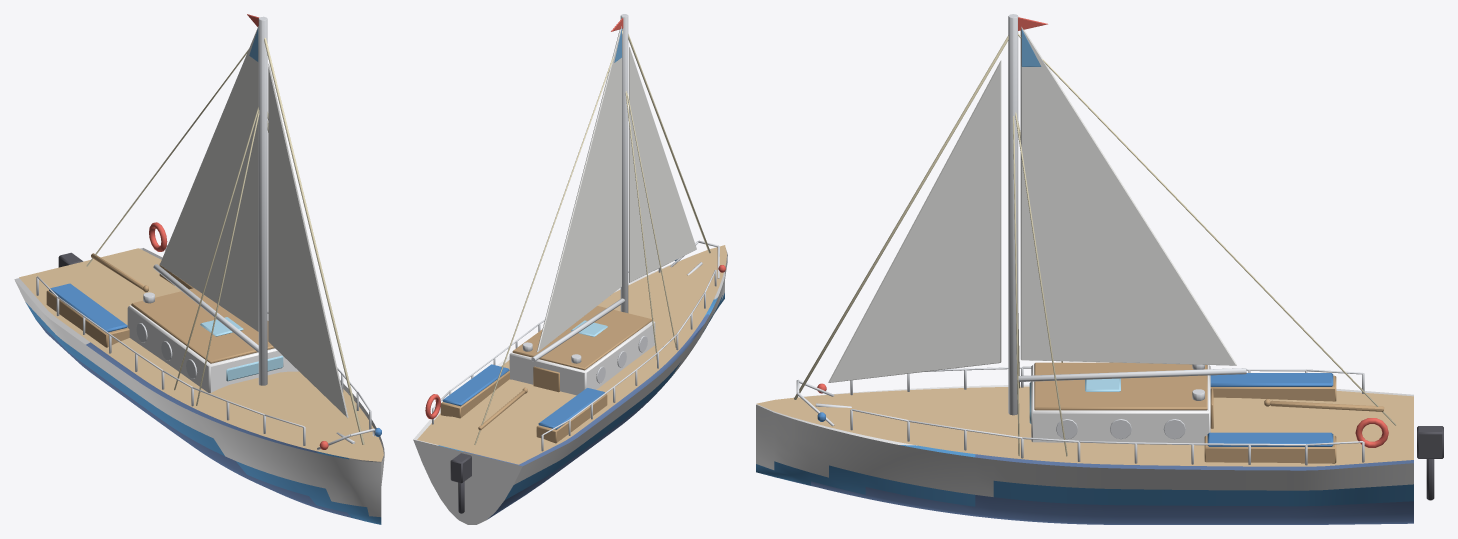
The model's file is kapal_c.fbx.
The picture shows the model from 3 angles, left to right: view 1: azimuth 30°, elevation 25°; view 2: azimuth 150°, elevation 25°; view 3: azimuth 270°, elevation 25°; orthographic projection. The views are drawn at different scales.
Visible parts, largest first — view 1: Layar, Geladak, Badan, Besi, Kayu, Garis, Kabin, Tali, Bawah, Jok, Kaca, Merah; view 2: Layar, Geladak, Badan, Kayu, Besi, Kabin, Tali, Jok, Bawah, Garis, Hitam, Merah; view 3: Layar, Geladak, Badan, Bawah, Kayu, Garis, Besi, Kabin, Tali, Jok, Hitam, Merah.
Part boxes in pixels (x1,y1,x2,y2): Layar: [160, 26, 348, 417]; Geladak: [19, 248, 383, 461]; Badan: [14, 248, 384, 517]; Besi: [36, 16, 375, 449]; Kayu: [46, 253, 274, 363]; Garis: [25, 302, 381, 524]; Kabin: [127, 305, 298, 392]; Tali: [86, 38, 364, 444]; Bawah: [36, 320, 363, 520]; Jok: [49, 283, 381, 436]; Kaca: [200, 317, 283, 381]; Merah: [149, 14, 328, 449]; Layar: [536, 26, 696, 352]; Geladak: [417, 245, 726, 464]; Badan: [413, 250, 727, 524]; Kayu: [440, 306, 652, 443]; Besi: [432, 14, 719, 451]; Kabin: [509, 321, 655, 395]; Tali: [474, 30, 710, 444]; Jok: [442, 259, 677, 429]; Bawah: [463, 314, 709, 519]; Garis: [438, 293, 724, 500]; Hitam: [450, 453, 471, 513]; Merah: [425, 18, 725, 419]; Layar: [828, 27, 1236, 382]; Geladak: [756, 386, 1413, 466]; Badan: [756, 384, 1413, 496]; Bawah: [792, 454, 1413, 524]; Kayu: [1034, 362, 1384, 463]; Garis: [756, 445, 1413, 506]; Besi: [796, 14, 1364, 465]; Kabin: [1031, 364, 1210, 443]; Tali: [794, 34, 1396, 456]; Jok: [817, 373, 1333, 446]; Hitam: [1417, 426, 1443, 500]; Merah: [817, 17, 1388, 447].
Bounding box in the file's own units: 6.6 × 18.64 × 23.
